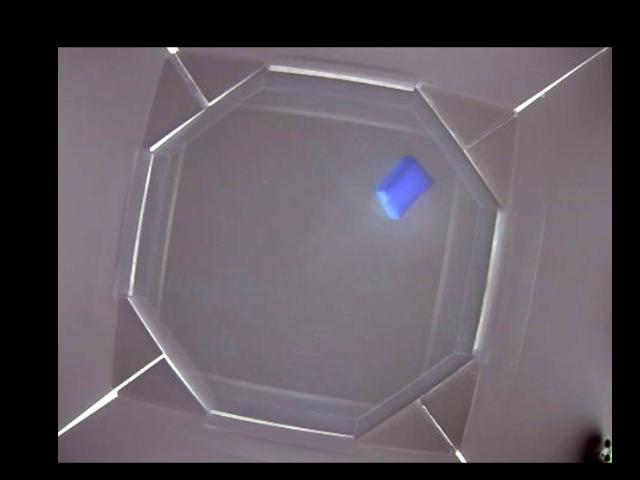Potato: (376, 157, 431, 216)
